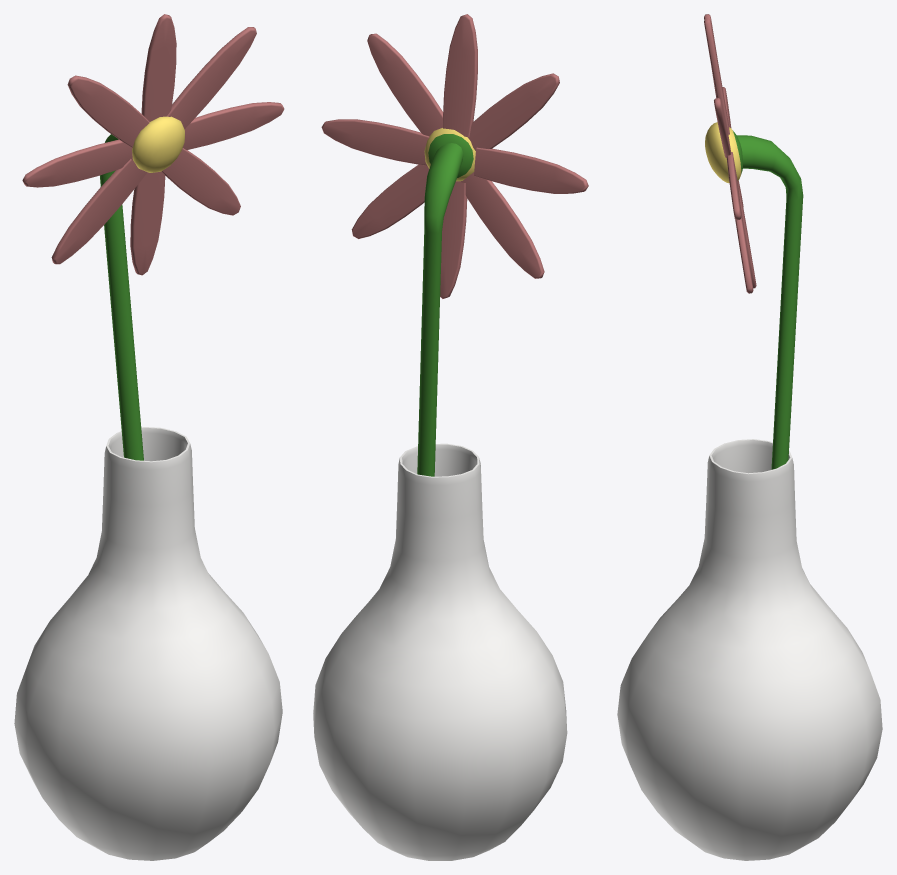
File: Flower_Vase_with_Flowers_2.glb
3 views of the same model, side by side, from view 1: azimuth 30°, elevation 25°; view 2: azimuth 150°, elevation 25°; view 3: azimuth 270°, elevation 25° (orthographic). The views are drawn at different scales.
Visible parts, largest first — view 1: Vase_with_Flowers_2; view 2: Vase_with_Flowers_2; view 3: Vase_with_Flowers_2.
Part boxes in pixels (<box>): Vase_with_Flowers_2: <box>14,14,284,860</box>; Vase_with_Flowers_2: <box>313,14,588,860</box>; Vase_with_Flowers_2: <box>617,14,882,860</box>.
Size of the model in its own units: 0.2192 by 0.6556 by 0.1931.
1 material, 1 textured.
